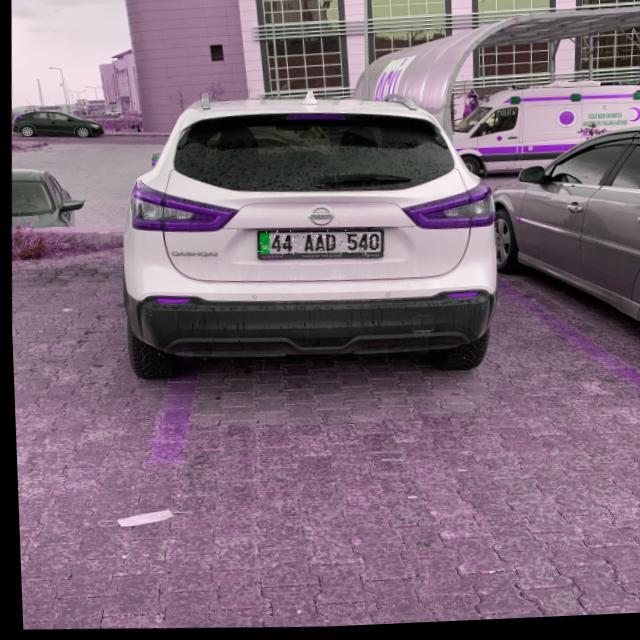license_plate: (255, 228, 382, 261)
